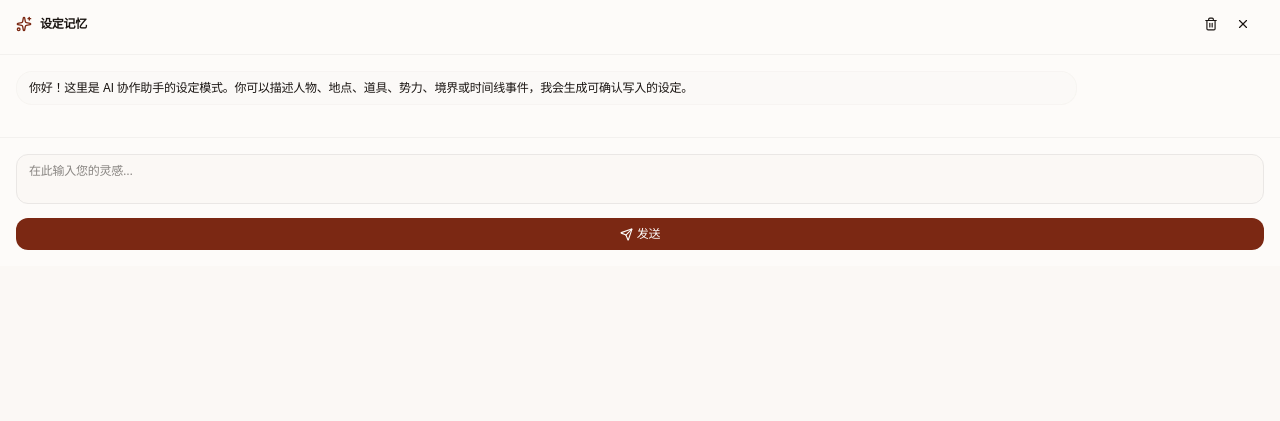
Test: WorldBibleAssistant request lifecycle › 服务端 reason、finishReason、traceId 在世界设定告警中可见
Type "私密设定提示" into the text box named "输入设定灵感" at [640, 179], box left=16, top=154, right=1264, bottom=204
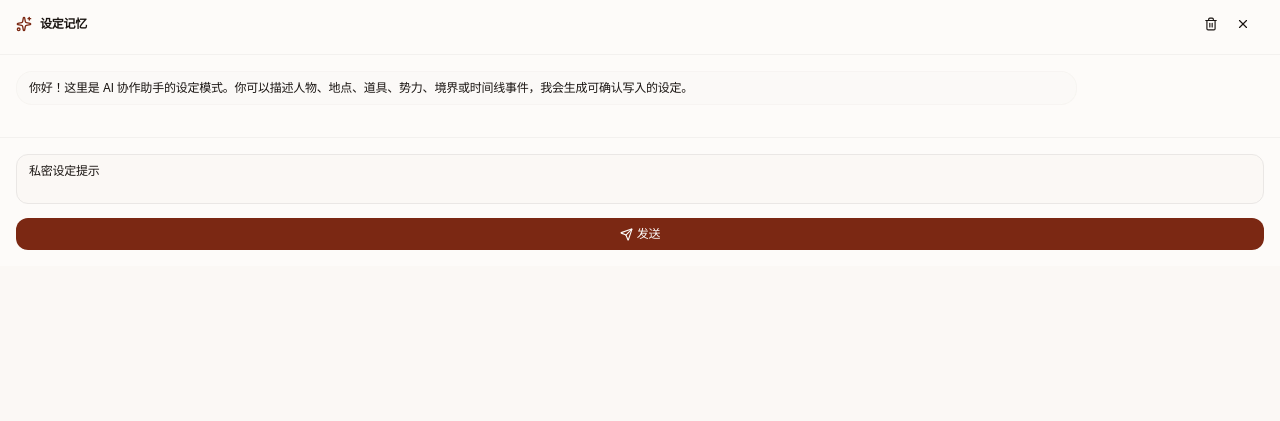
Click the button with aria-label "发送设定灵感" at [640, 234], box left=16, top=218, right=1264, bottom=250
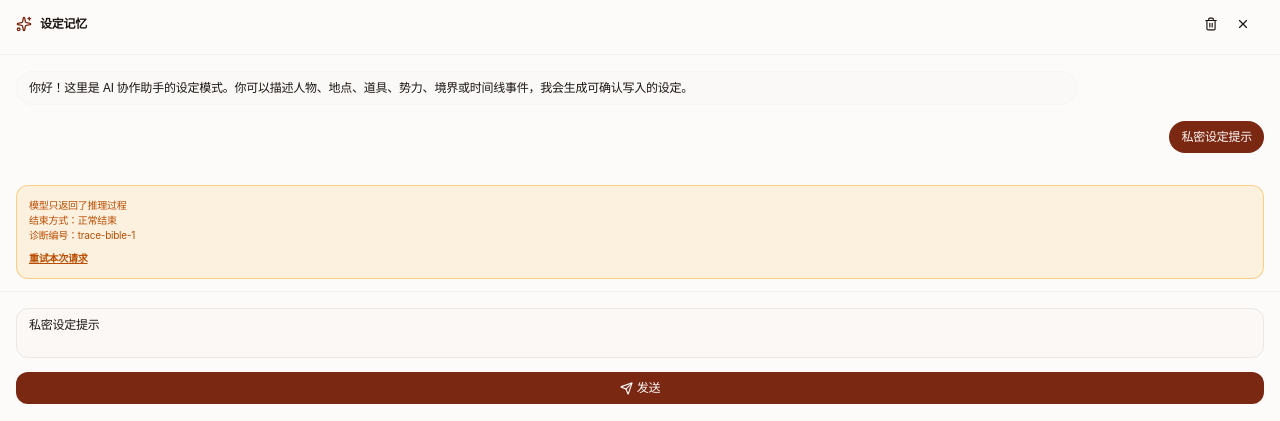
expect the message shows "只返回了推理过程": met, box left=29, top=199, right=127, bottom=211
expect the message shows "结束方式：正常结束": met, box left=16, top=185, right=1264, bottom=279
expect the message shows "诊断编号：trace-bible-1": met, box left=16, top=185, right=1264, bottom=279
